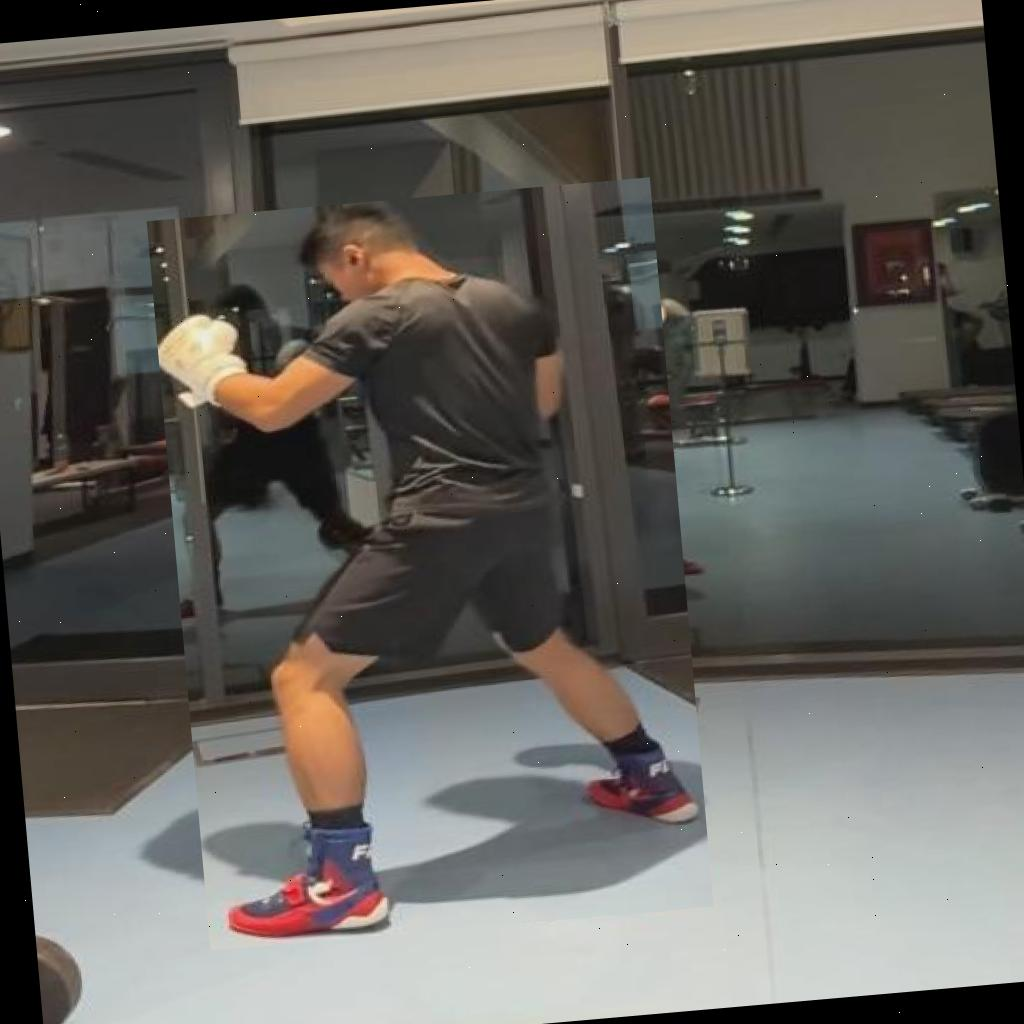uppercut: (146, 177, 713, 950)
